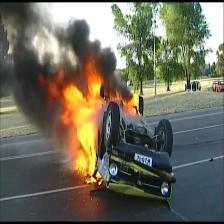fire: (68, 87, 103, 161)
smoke: (19, 47, 51, 126)
